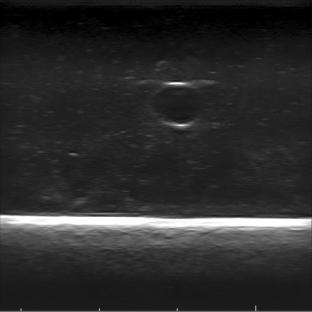vessel: (149, 81, 209, 127)
